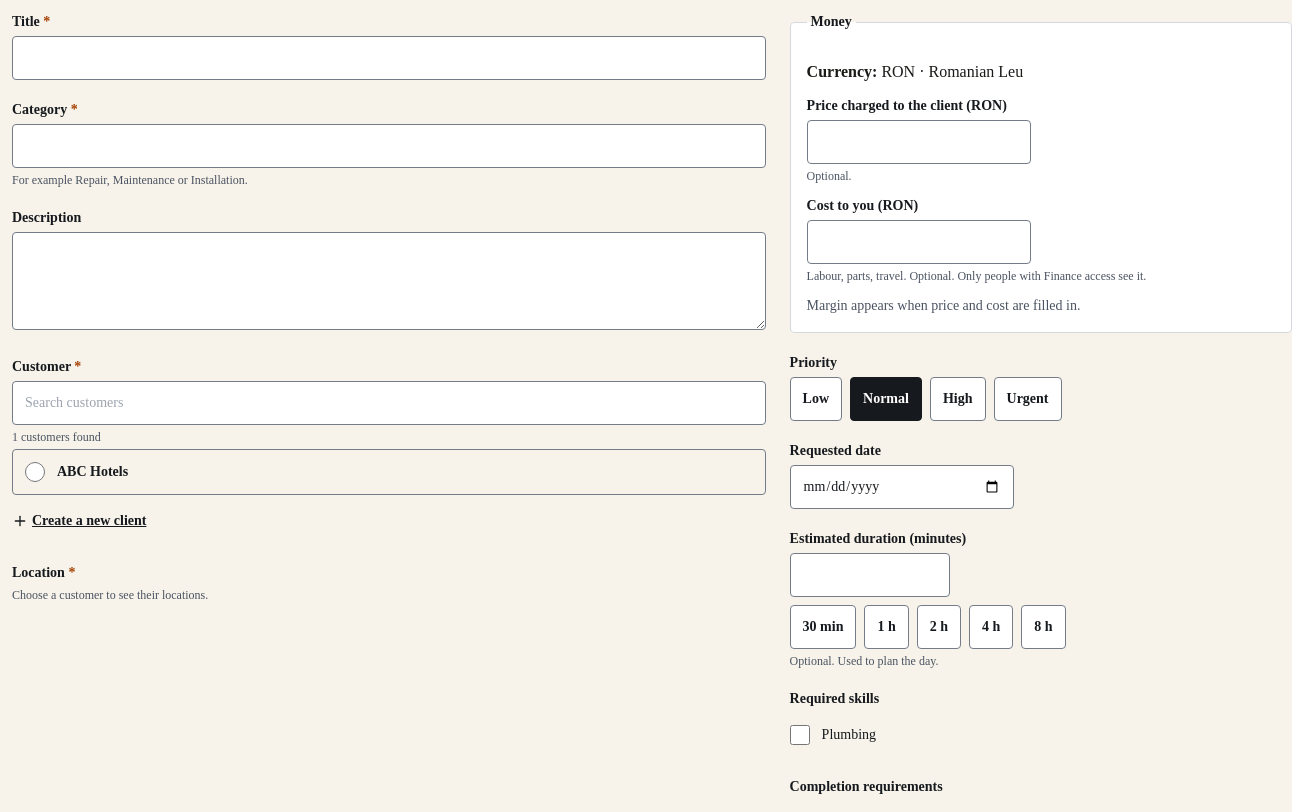
Scenario: money on a job (aa659608) › a cost above the price shows a loss with a minus sign and the word
The image size is (1292, 812).
Check: the field labelled "Category *" is shown, box [12,124,766,168]
In the field labelled "Price charged to the client (RON)": (919, 142) [807,120,1031,164], type "100"
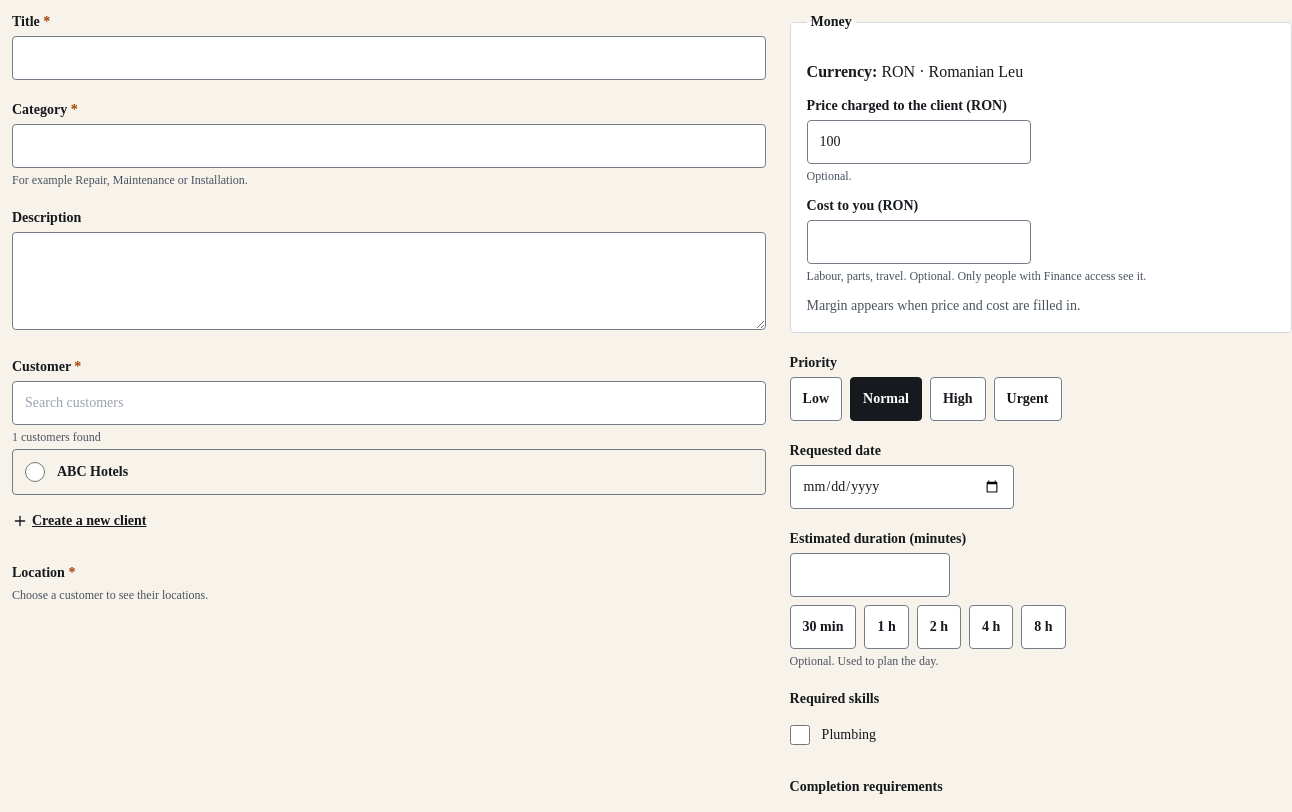
In the field labelled "Cost to you (RON)": (919, 242) [807,220,1031,264], type "120"
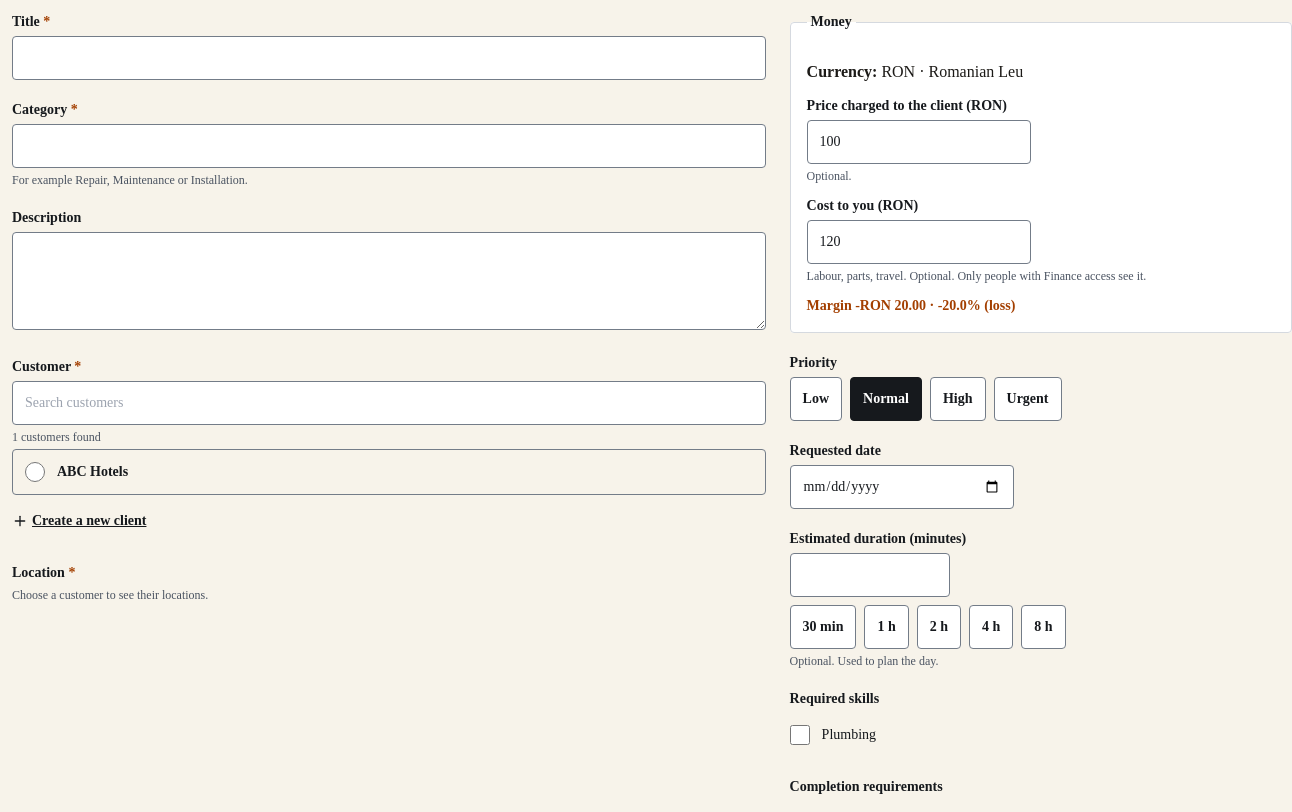
Check: the text "Margin -RON 20.00 · -20.0% (loss)" is shown, box [807,298,1015,313]
